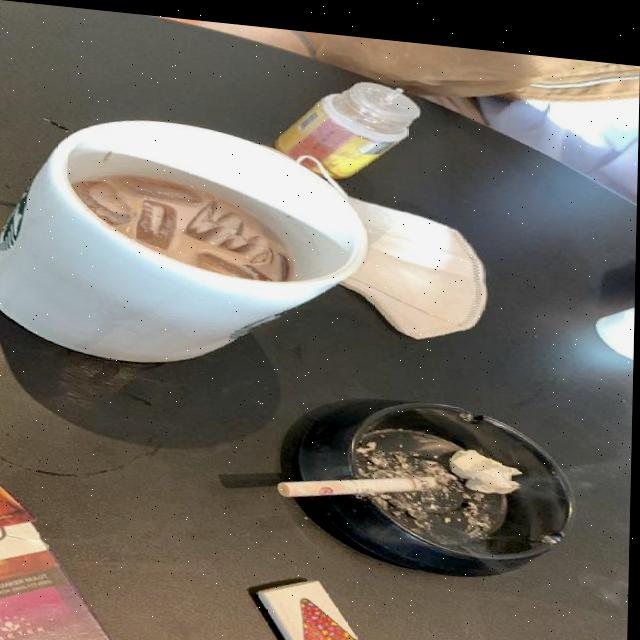cigarette: (279, 454, 437, 501)
